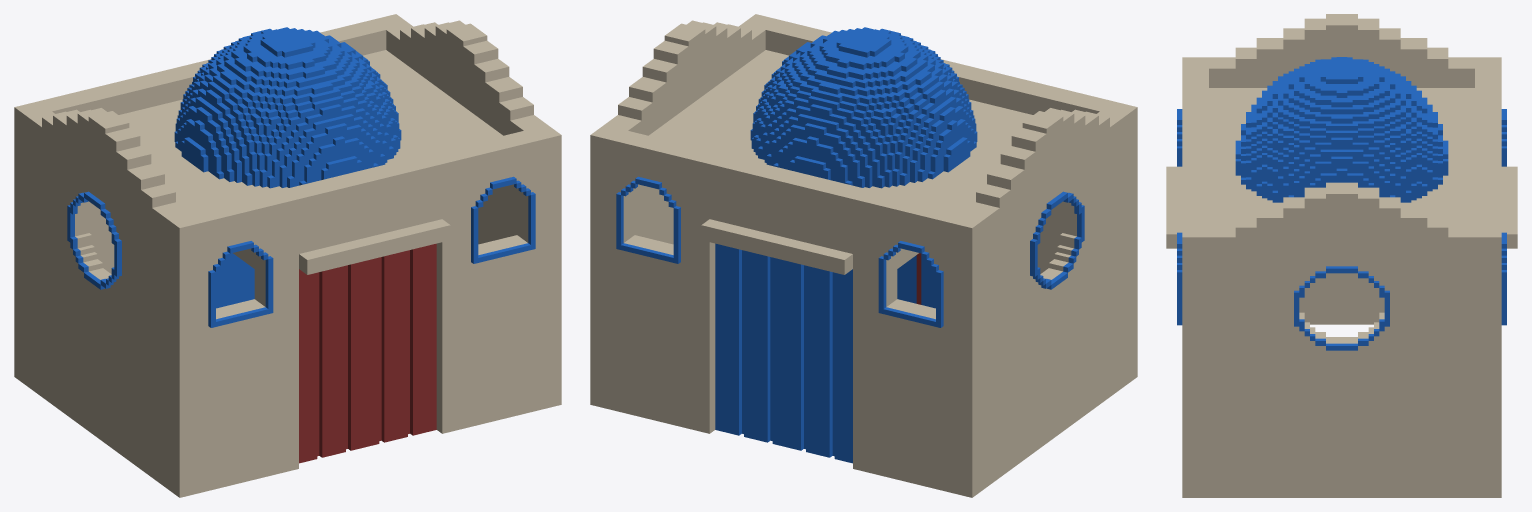
The model's file is Background_C_house_01.FBX.
3 renders of one model, left to right at view 1: azimuth 30°, elevation 25°; view 2: azimuth 150°, elevation 25°; view 3: azimuth 270°, elevation 25°, orthographic. The views are drawn at different scales.
Visible parts, largest first — view 1: Background_C-22; view 2: Background_C-22; view 3: Background_C-22.
Part boxes in pixels (left/top/right/bottom): Background_C-22: left=14, top=14, right=561, bottom=497; Background_C-22: left=590, top=14, right=1137, bottom=497; Background_C-22: left=1166, top=14, right=1517, bottom=497.
Size of the model in its own units: 8.2 by 7 by 6.6.
1 material, 1 textured.
